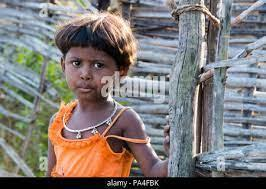Human: (44, 18, 164, 163)
